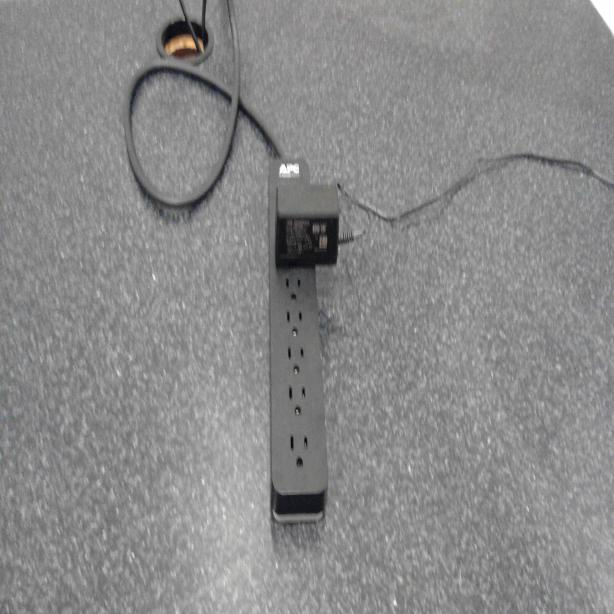typeb: (286, 430, 309, 472), (286, 383, 308, 422), (286, 344, 306, 377), (284, 308, 304, 338), (284, 275, 302, 304)
